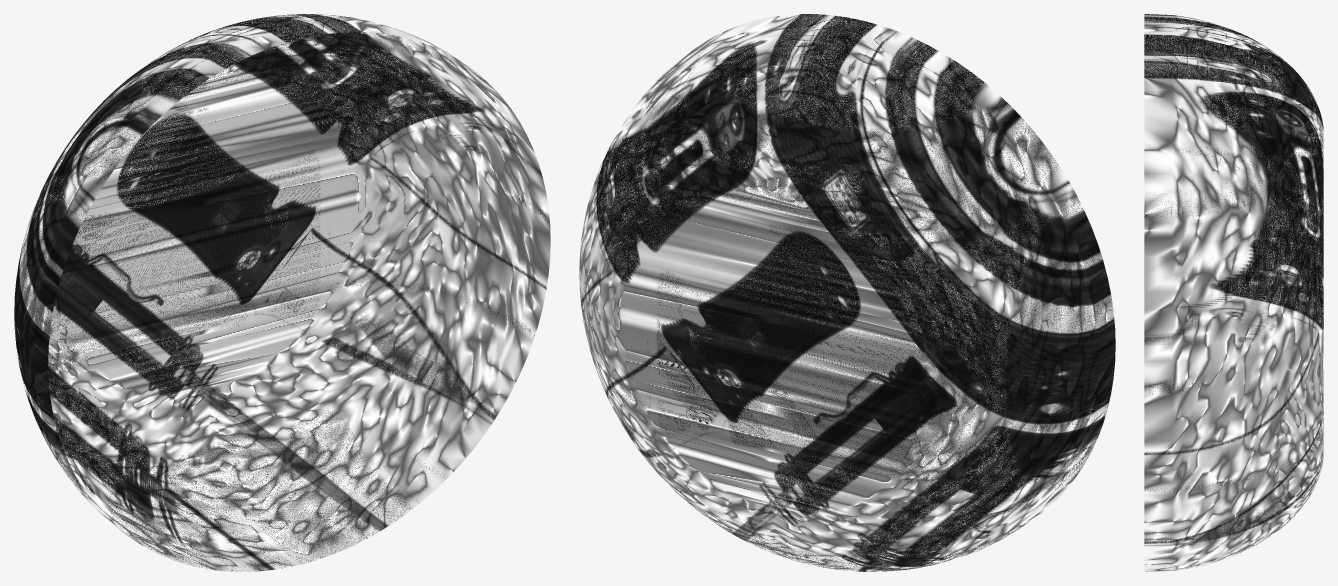
Rendered from model_align.obj.
3 views of the same model, side by side, from view 1: azimuth 30°, elevation 25°; view 2: azimuth 150°, elevation 25°; view 3: azimuth 270°, elevation 25° (orthographic). The views are drawn at different scales.
Size of the model in its own units: 0.1445 by 0.1445 by 0.0464.
